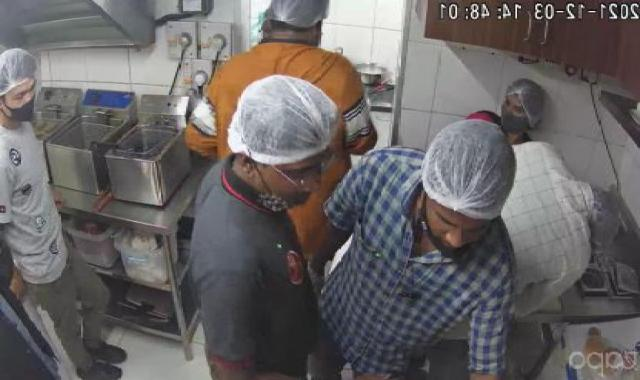hairnet: (411, 117, 519, 225), (222, 72, 341, 163), (588, 178, 632, 258), (493, 74, 548, 131), (253, 0, 343, 28), (0, 47, 44, 104)
